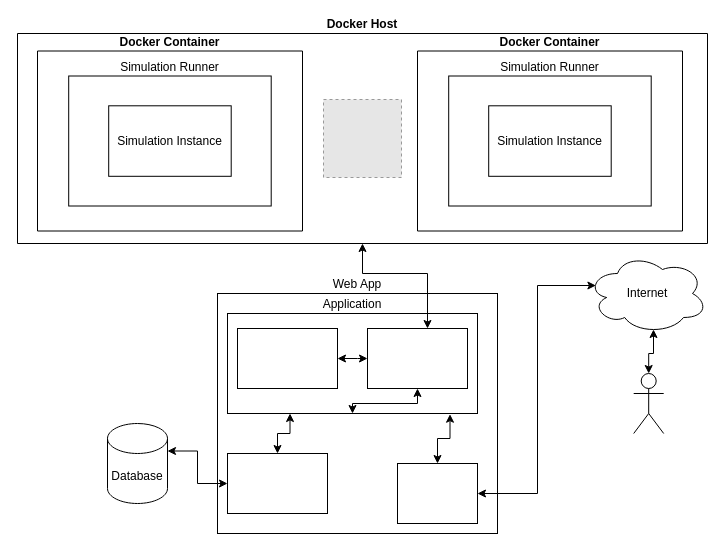
This 725x551 diagram has some shape labels left out. Grey dashed boxes stand in for pictures. The shapes that lost their labels are listed below. From the top down, each one's centre as x and y in pixels, then its label:
At [287,358]: "Docker Watch Service".
At [417,358]: "Docker Container Manager".
At [648,403]: "User".
At [277,483]: "Persistence".
At [437,493]: "API".
